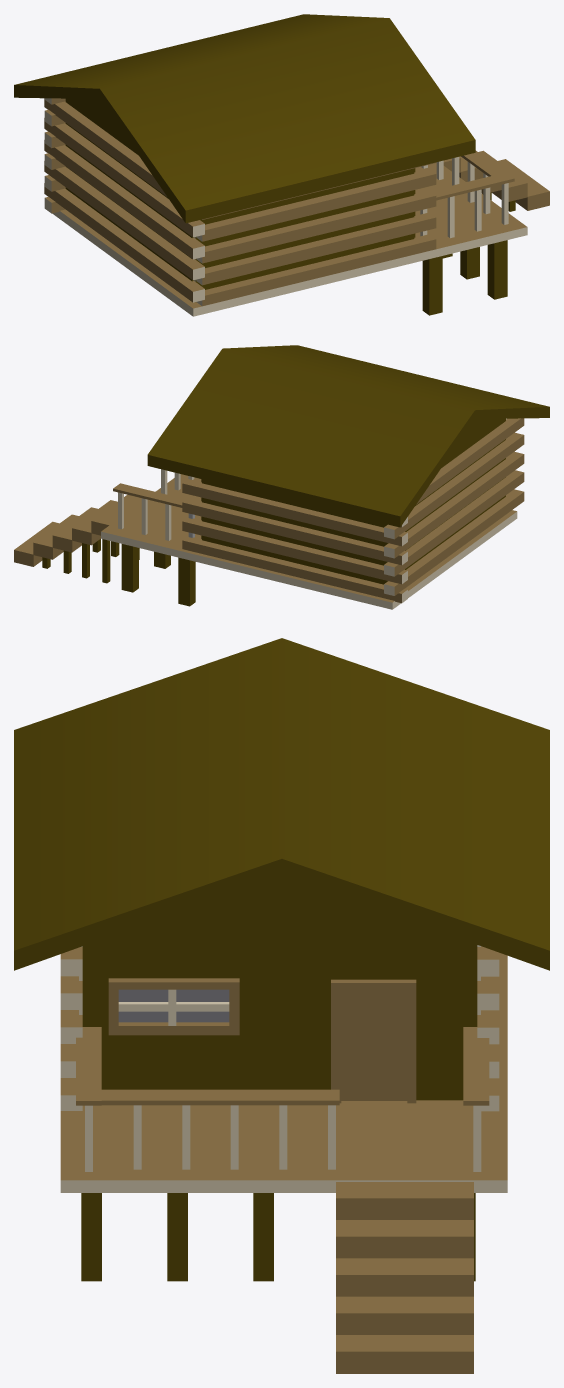
The model's file is House.fbx.
3 renders of one model, top to bottom at view 1: azimuth 30°, elevation 25°; view 2: azimuth 150°, elevation 25°; view 3: azimuth 270°, elevation 25°, orthographic. The views are drawn at different scales.
Visible parts, largest first — view 1: polySurface65; view 2: polySurface65; view 3: polySurface65.
Boxes of the visible parts, bbox=[...] form: polySurface65: bbox=[14, 14, 549, 316]; polySurface65: bbox=[14, 345, 549, 609]; polySurface65: bbox=[14, 638, 549, 1373].
Size of the model in its own units: 380 by 190 by 242.
